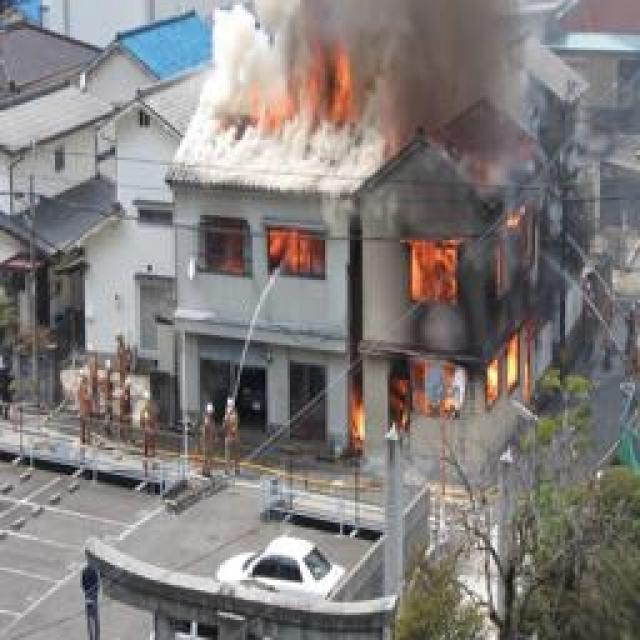Fire: (346, 188, 549, 444), (229, 55, 372, 133), (241, 222, 324, 276)
